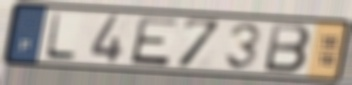3: (224, 22, 263, 70)
4: (89, 13, 126, 65)
7: (177, 17, 223, 70)
B: (262, 21, 314, 75)
E: (128, 15, 181, 68)
L: (43, 11, 80, 63)
